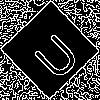U: (25, 25, 83, 83)
